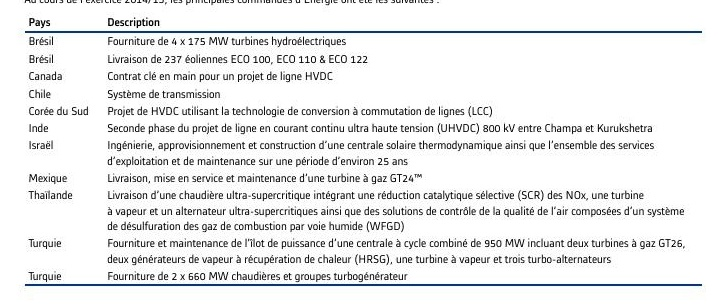table: (0, 0, 722, 304)
